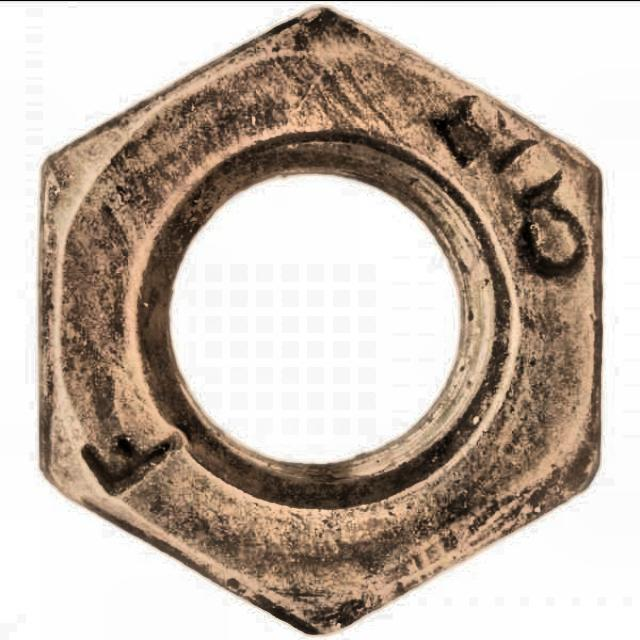Nut Detection - v1 Nut Dataset: (29, 3, 631, 637)
